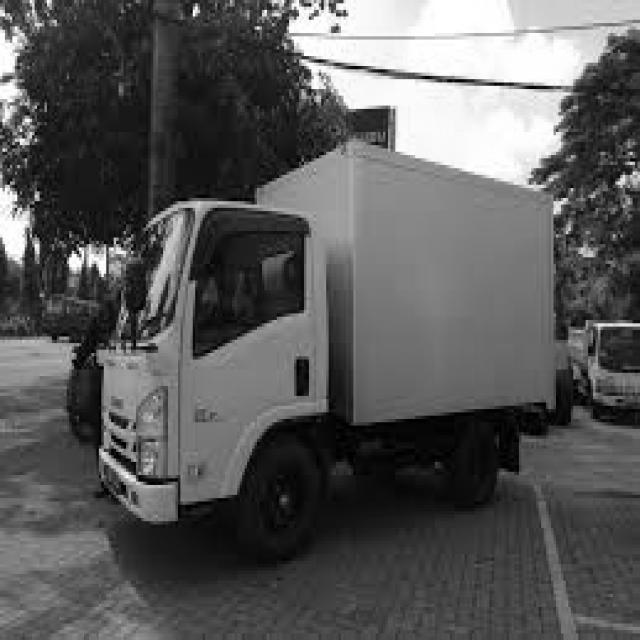truck: (69, 170, 364, 572), (567, 303, 640, 433)
